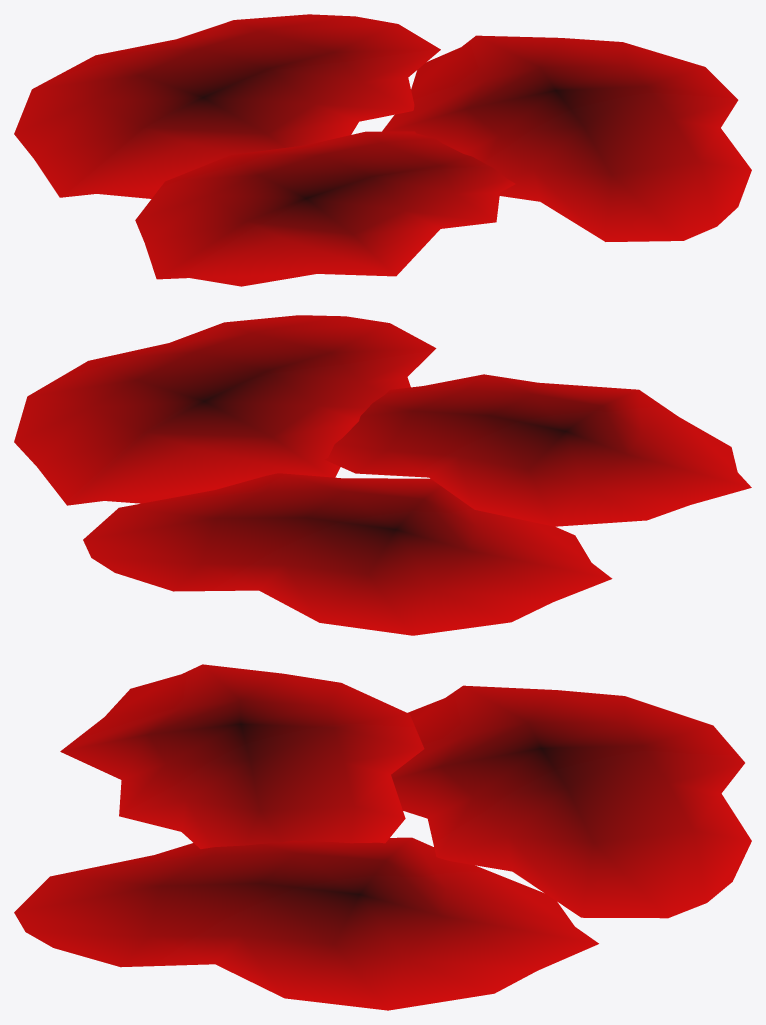
The model's file is CloverPatch.fbx.
3 renders of one model, top to bottom at view 1: azimuth 30°, elevation 25°; view 2: azimuth 150°, elevation 25°; view 3: azimuth 270°, elevation 25°, orthographic. The views are drawn at different scales.
Visible parts, largest first — view 1: CloverPatch; view 2: CloverPatch; view 3: CloverPatch.
Boxes of the visible parts, x1=… form: CloverPatch: x1=14, y1=14, x2=751, y2=286; CloverPatch: x1=14, y1=315, x2=751, y2=635; CloverPatch: x1=14, y1=664, x2=751, y2=1010.
Bounding box in the file's own units: 493 × 28.47 × 449.
